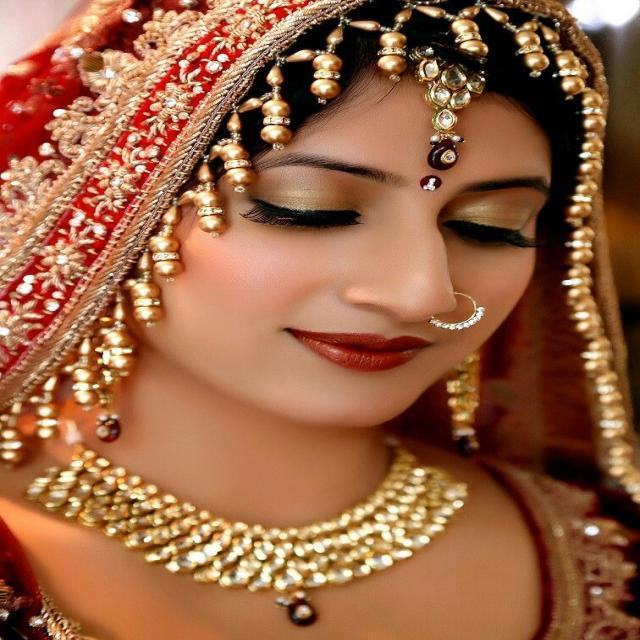Earring: (435, 342, 505, 468)
